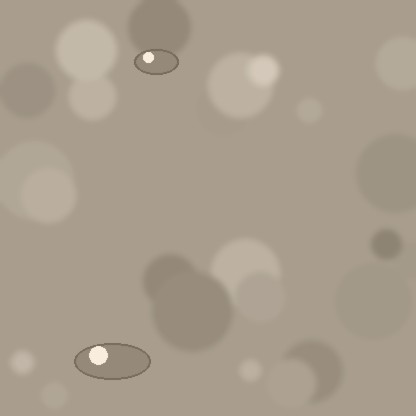gota: (74, 344, 150, 382), (134, 50, 178, 76)
